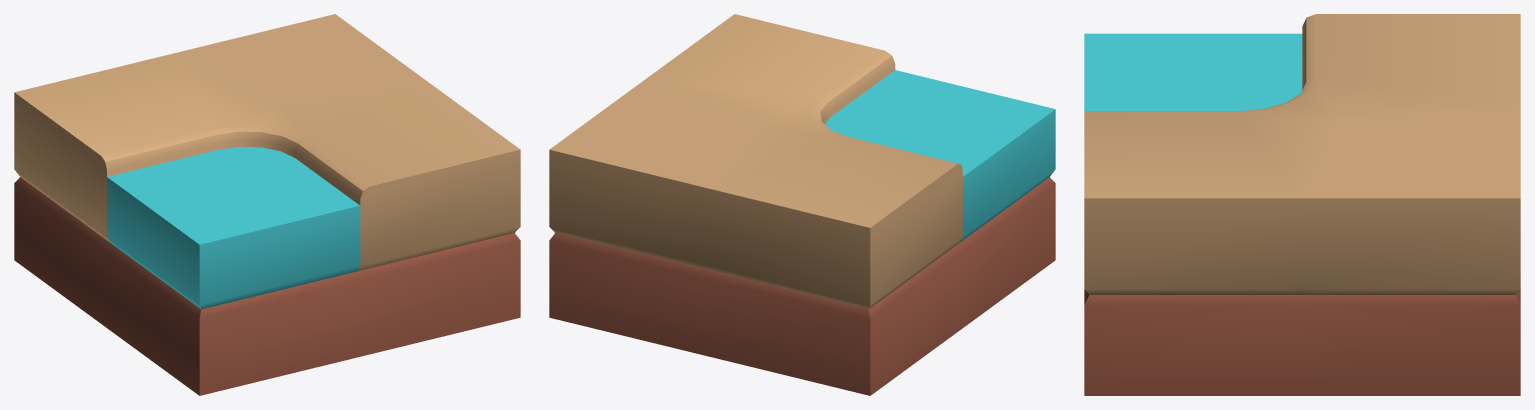
Rendered from kaykit-square-sand-waterinnercorner.glb.
3 views of the same model, side by side, from view 1: azimuth 30°, elevation 25°; view 2: azimuth 150°, elevation 25°; view 3: azimuth 270°, elevation 25° (orthographic). The views are drawn at different scales.
Visible parts, largest first — view 1: square_sand_waterInnerCorner; view 2: square_sand_waterInnerCorner; view 3: square_sand_waterInnerCorner.
Boxes of the visible parts, bbox=[...] form: square_sand_waterInnerCorner: bbox=[14, 14, 520, 395]; square_sand_waterInnerCorner: bbox=[549, 14, 1055, 395]; square_sand_waterInnerCorner: bbox=[1084, 14, 1520, 395].
Size of the model in its own units: 2 by 1 by 2.
